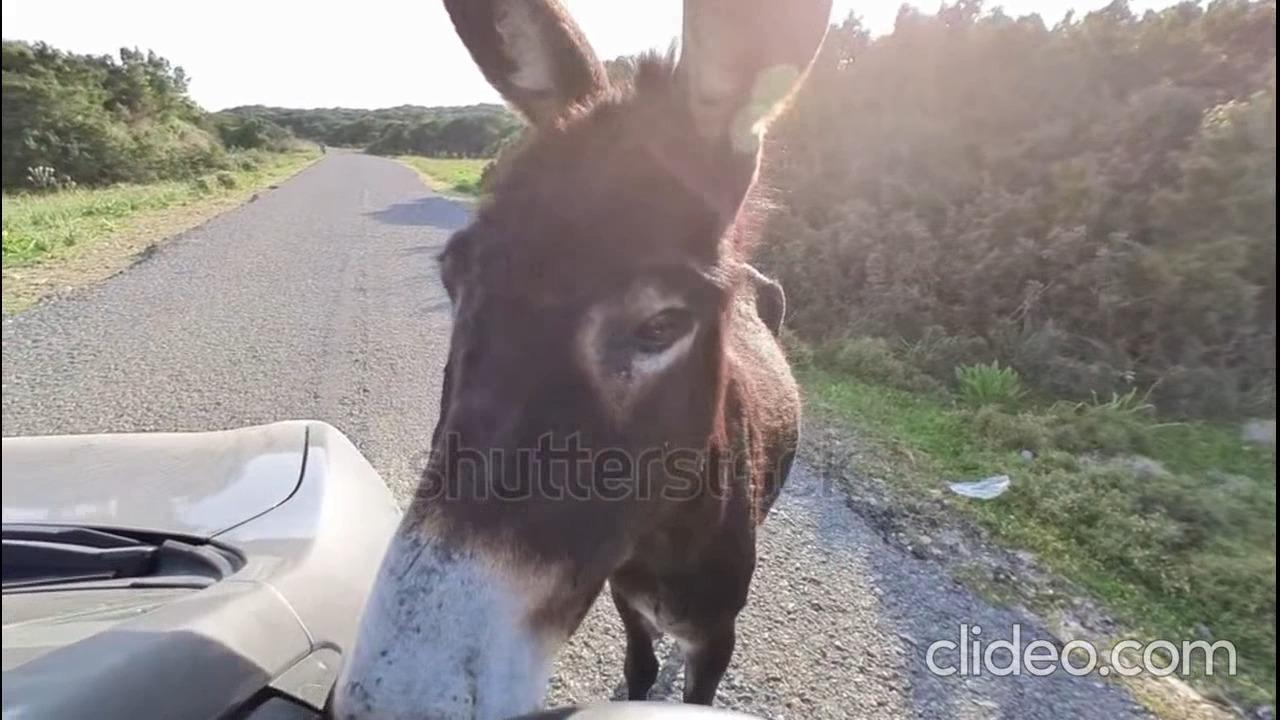Donkey: (334, 2, 805, 720)
